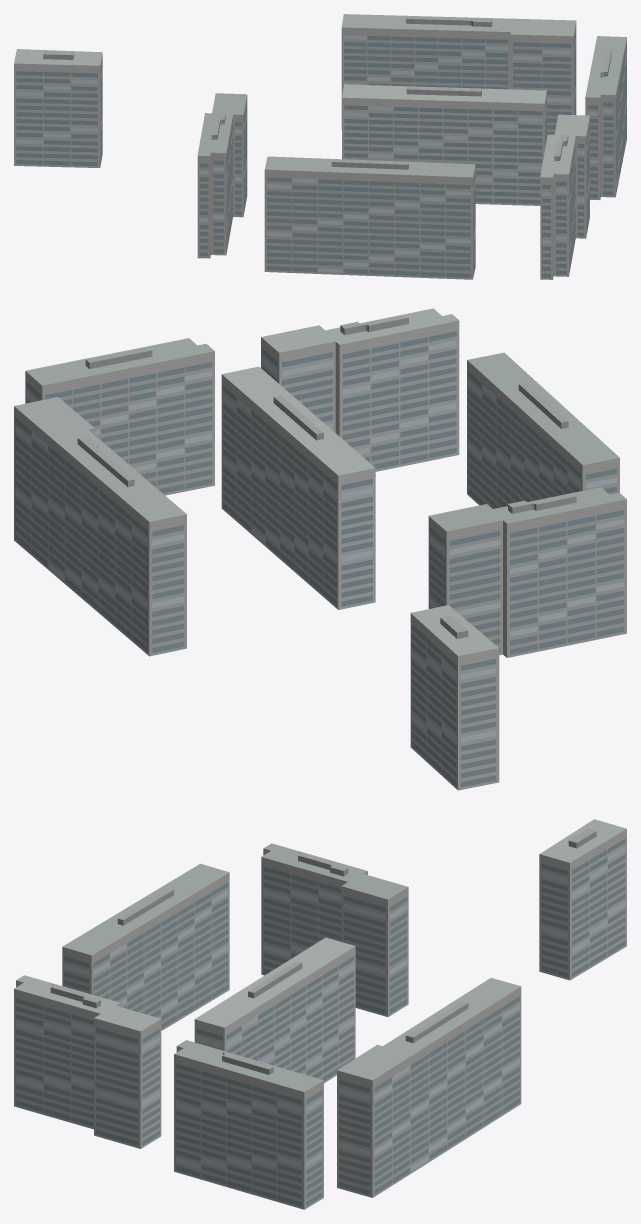
Rendered from apt-a15781003.glb.
3 renders of one model, top to bottom at view 1: azimuth 30°, elevation 25°; view 2: azimuth 150°, elevation 25°; view 3: azimuth 270°, elevation 25°, orthographic. The views are drawn at different scales.
Visible parts, largest first — view 1: apt-a15781003; view 2: apt-a15781003; view 3: apt-a15781003.
Part boxes in pixels (x1,y1,x2,y2): apt-a15781003: (14, 14, 626, 279); apt-a15781003: (14, 308, 626, 790); apt-a15781003: (14, 819, 626, 1209).
Size of the model in its own units: 195 by 41 by 185.
